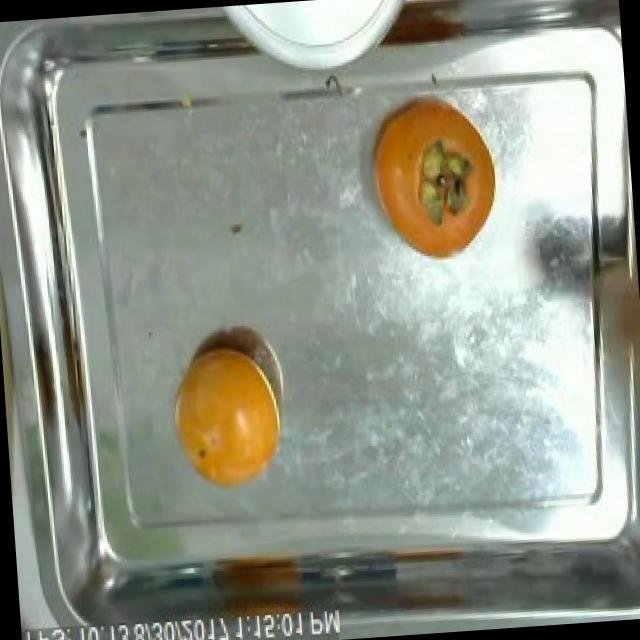Fruit: (352, 74, 512, 278), (164, 336, 286, 497), (197, 531, 325, 629)
